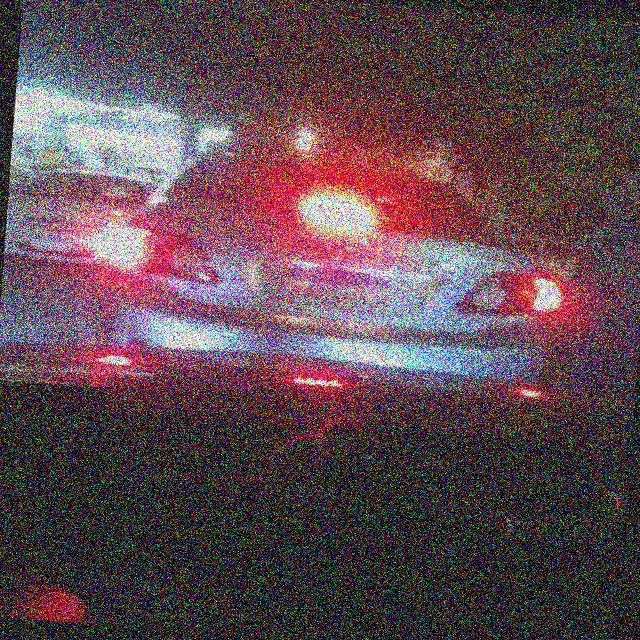License Plate: (274, 258, 393, 317)
